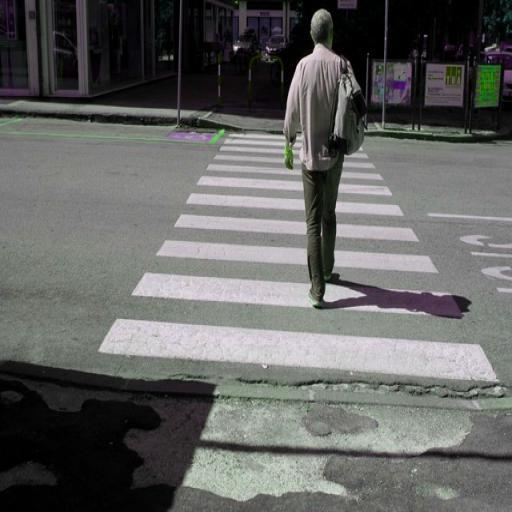crosswalk: (114, 230, 472, 320), (191, 160, 399, 200)
